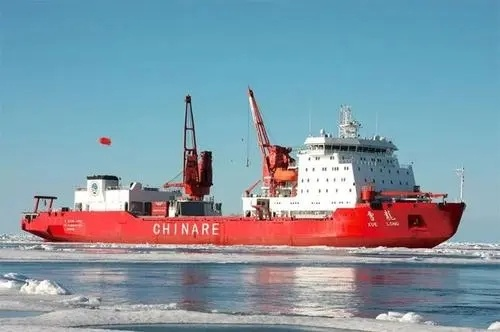Cargoship: (15, 83, 469, 242)
